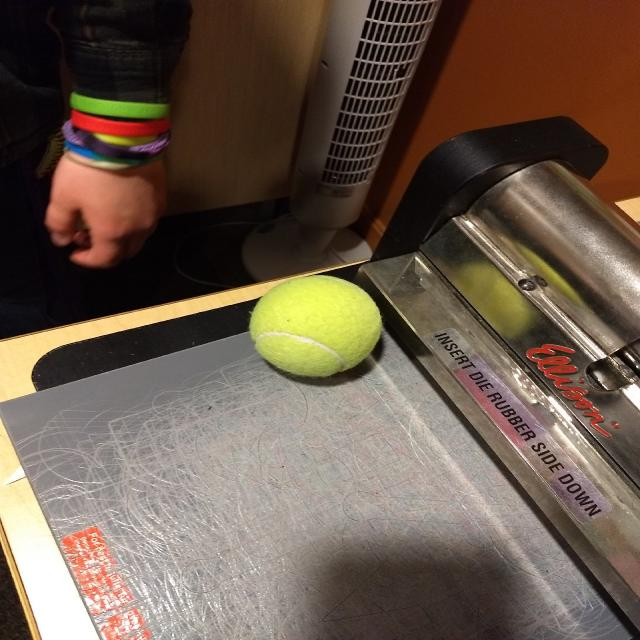Tennis-Ball: (250, 274, 384, 379)
